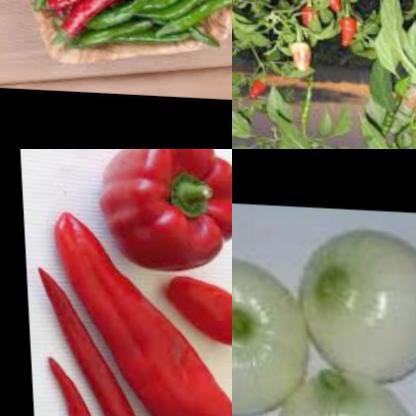bell pepper: (53, 203, 232, 416), (82, 149, 232, 271), (161, 262, 232, 347)
hot pepper: (23, 246, 162, 416), (0, 0, 232, 62), (37, 345, 106, 416), (278, 33, 313, 76), (394, 79, 416, 130), (238, 76, 267, 104), (333, 15, 356, 50), (296, 6, 318, 31), (321, 0, 343, 19)
onion: (294, 221, 416, 386), (232, 239, 321, 413), (265, 361, 416, 416)
